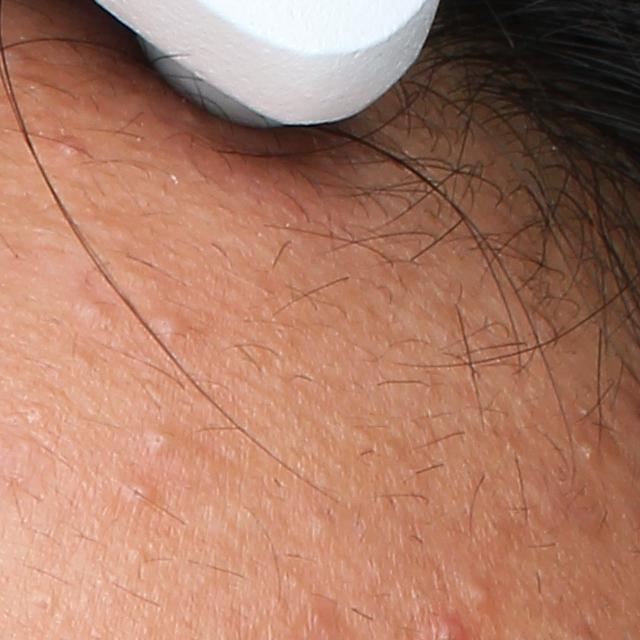comedo: (456, 569, 501, 608), (148, 304, 191, 340), (75, 297, 118, 330), (124, 483, 148, 503)
